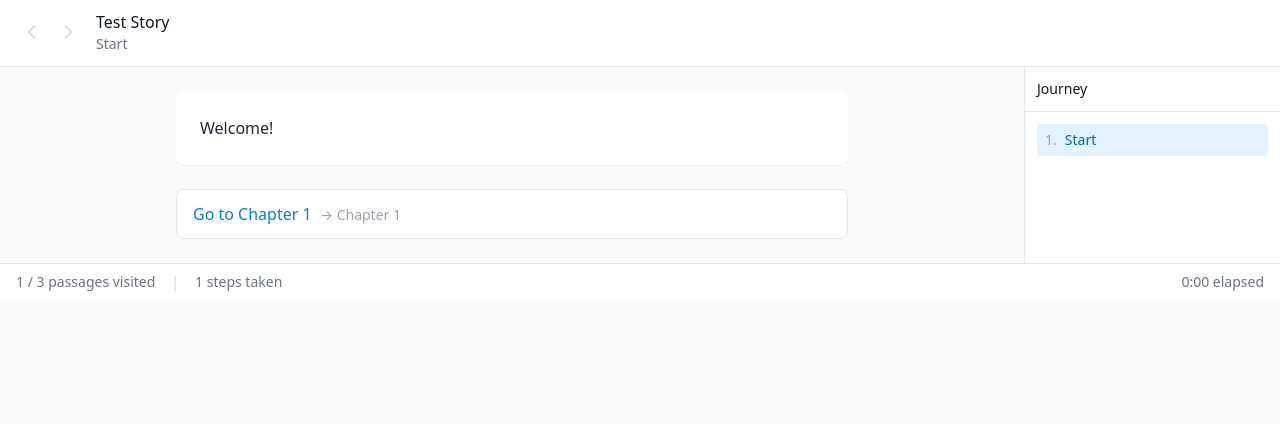
Test: TwinePlayer › story completion › shows completion message when story ends
Note: Navigate to End passage
Click the button "Go to Chapter 1→ Chapter 1". click: (252, 214)
box: left=176, top=189, right=848, bottom=239
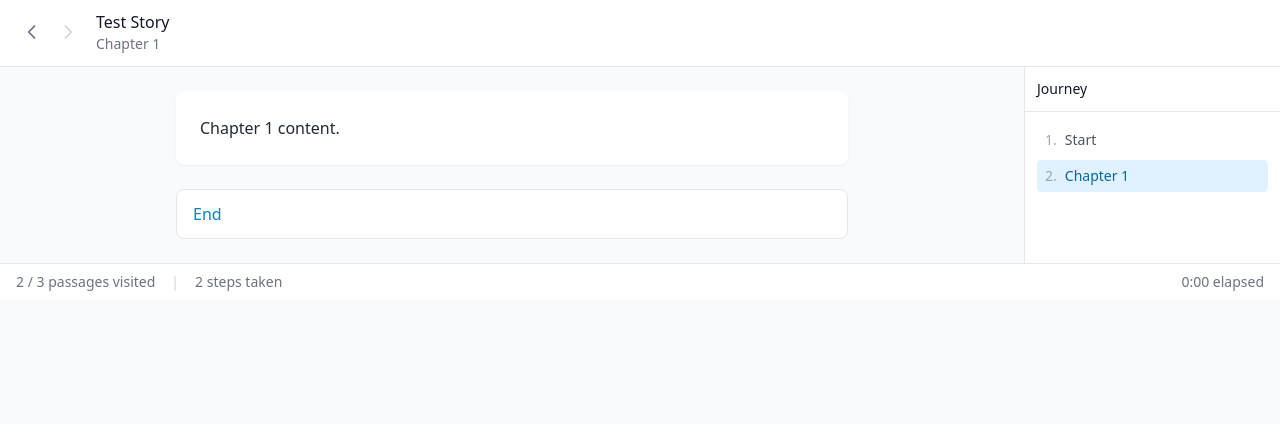
Click the button "End". click: (207, 214)
box: left=176, top=189, right=848, bottom=239
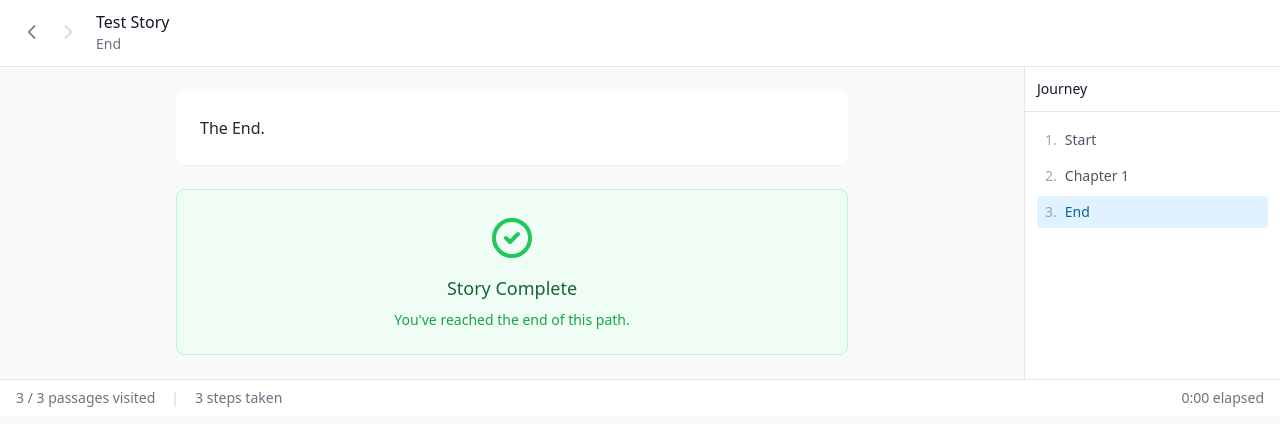
expect the heading "Story Complete" is shown: met, box left=447, top=276, right=577, bottom=300
